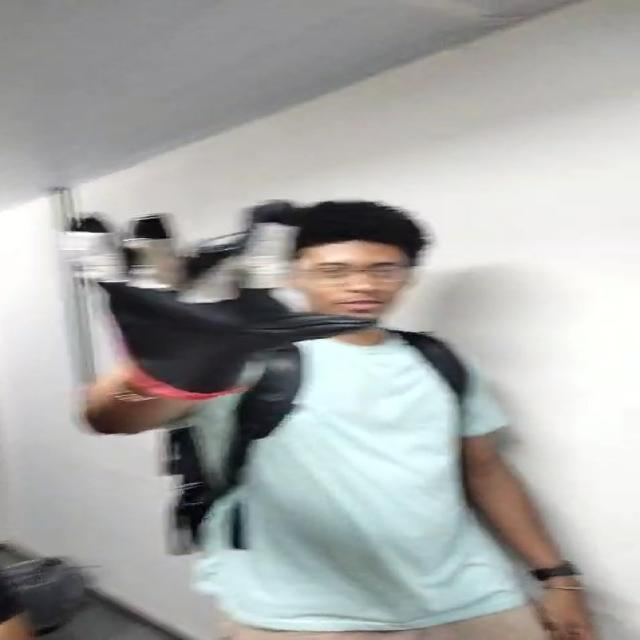Gloves: (67, 207, 358, 395)
